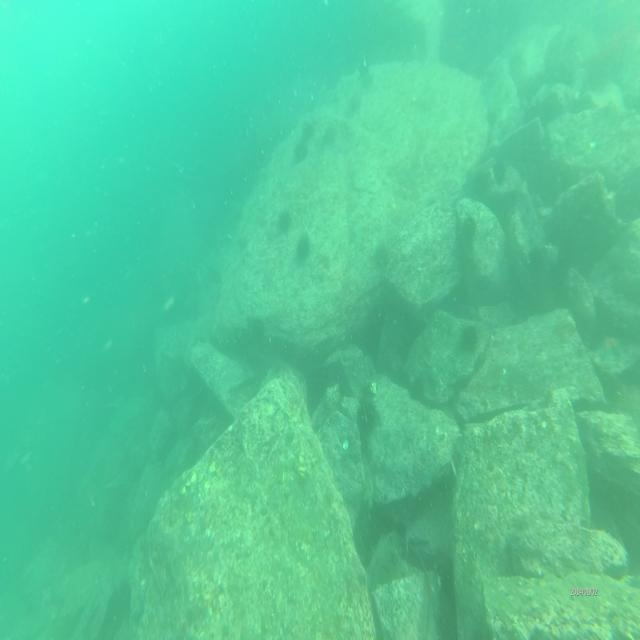echinus: (358, 388, 379, 440), (457, 320, 481, 359), (459, 212, 478, 250), (291, 136, 310, 165), (294, 232, 312, 262), (373, 238, 389, 270), (276, 206, 292, 236), (493, 155, 508, 186), (300, 118, 313, 142)
starfish: (598, 330, 626, 359)
